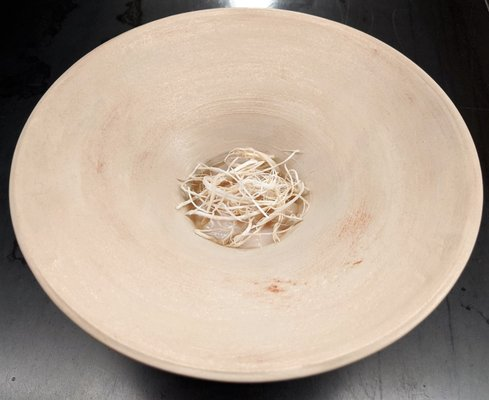curry: (8, 7, 481, 390)
